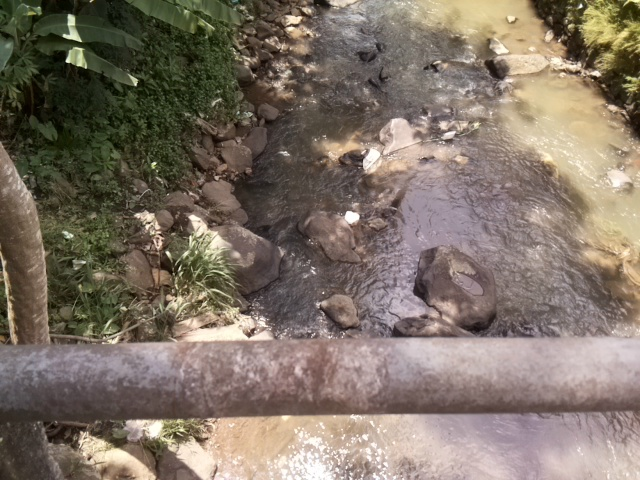Sampah_Plastik: (363, 148, 384, 178)
Sampah_Styrofoam: (344, 207, 363, 228)
